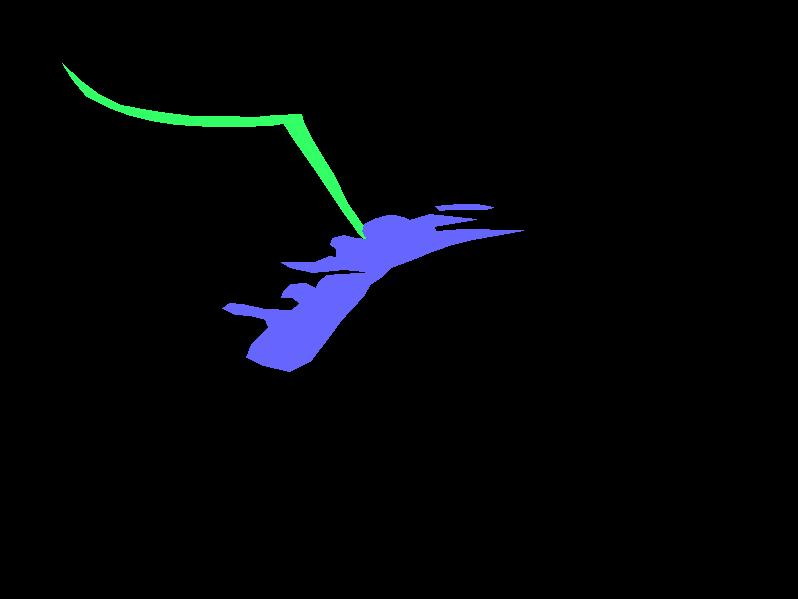Broken part: (62, 63, 392, 267)
Scratch: (222, 214, 523, 371), (435, 204, 493, 210)
